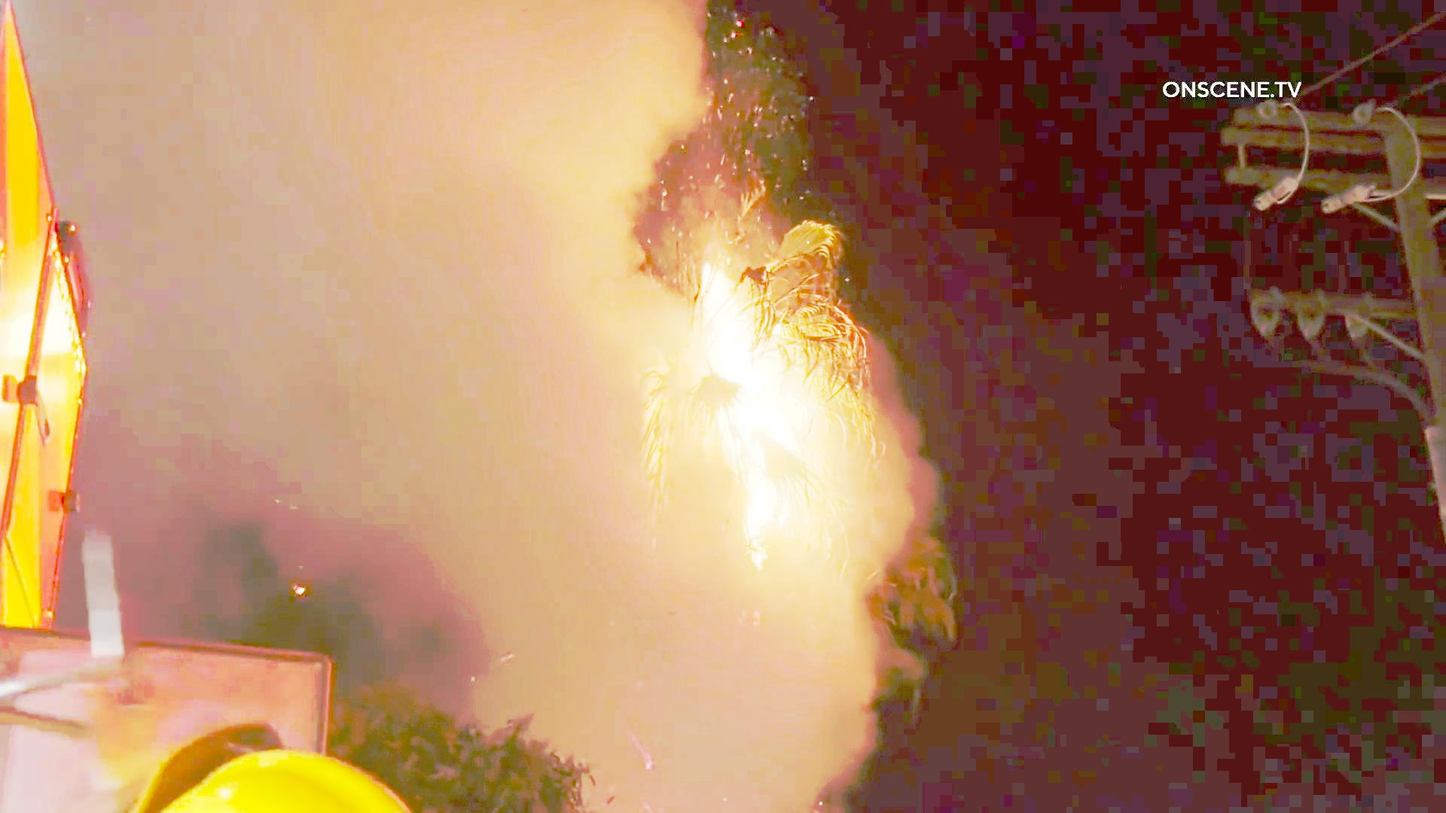fire: (673, 260, 825, 560)
smoke: (63, 0, 670, 475), (433, 574, 819, 804)
